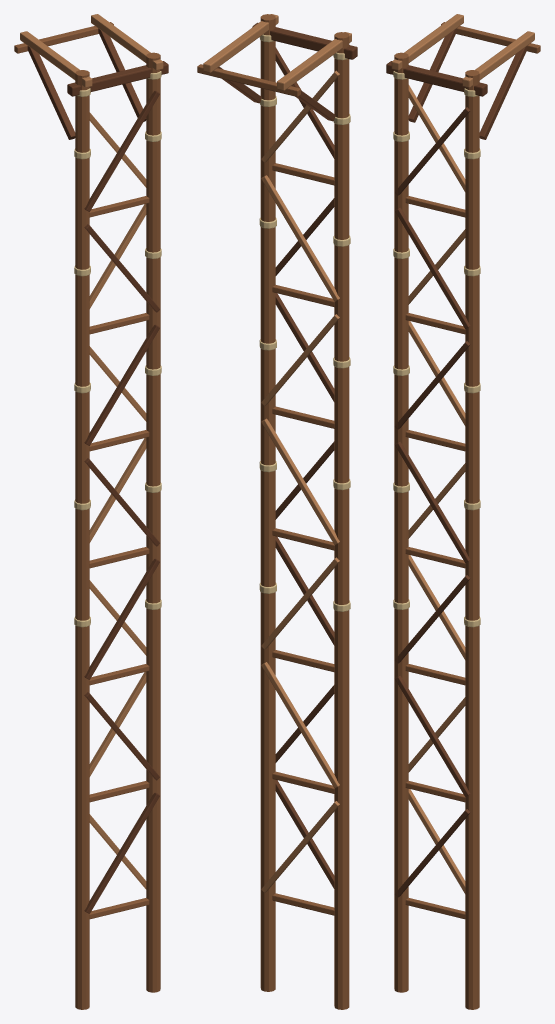
Rendered from CC_T10_PlatformPier.fbx.
3 renders of one model, left to right at view 1: azimuth 30°, elevation 25°; view 2: azimuth 150°, elevation 25°; view 3: azimuth 330°, elevation 25°, orthographic. The views are drawn at different scales.
Visible parts, largest first — view 1: CC_T10_PlatformPier; view 2: CC_T10_PlatformPier; view 3: CC_T10_PlatformPier.
Boxes of the visible parts, bbox=[...] form: CC_T10_PlatformPier: bbox=[14, 14, 168, 1009]; CC_T10_PlatformPier: bbox=[197, 14, 357, 1009]; CC_T10_PlatformPier: bbox=[386, 14, 540, 1009].
Bounding box in the file's own units: 2.6 × 23.95 × 3.05.
